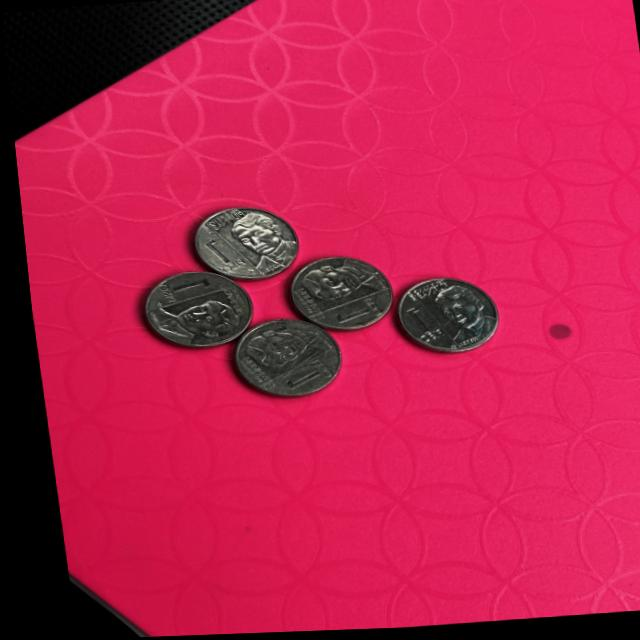1_New_Front: (146, 273, 206, 311), (264, 358, 325, 395), (397, 300, 443, 348), (324, 299, 382, 329), (199, 237, 237, 281)
